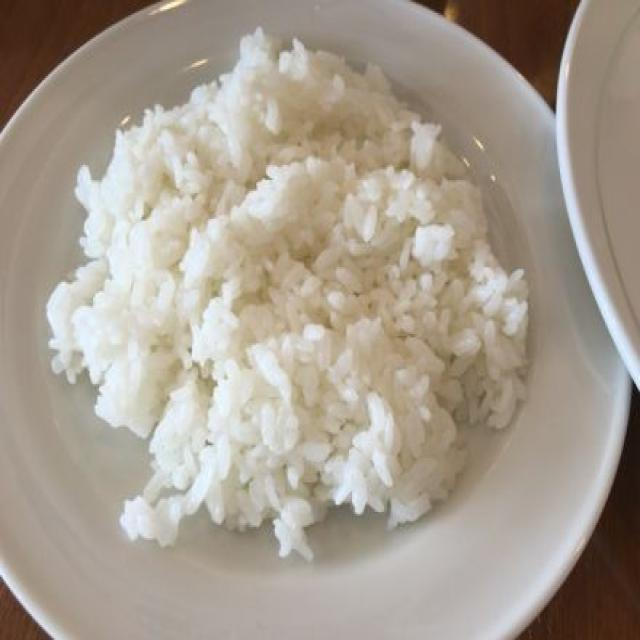rice: (47, 32, 527, 558)
